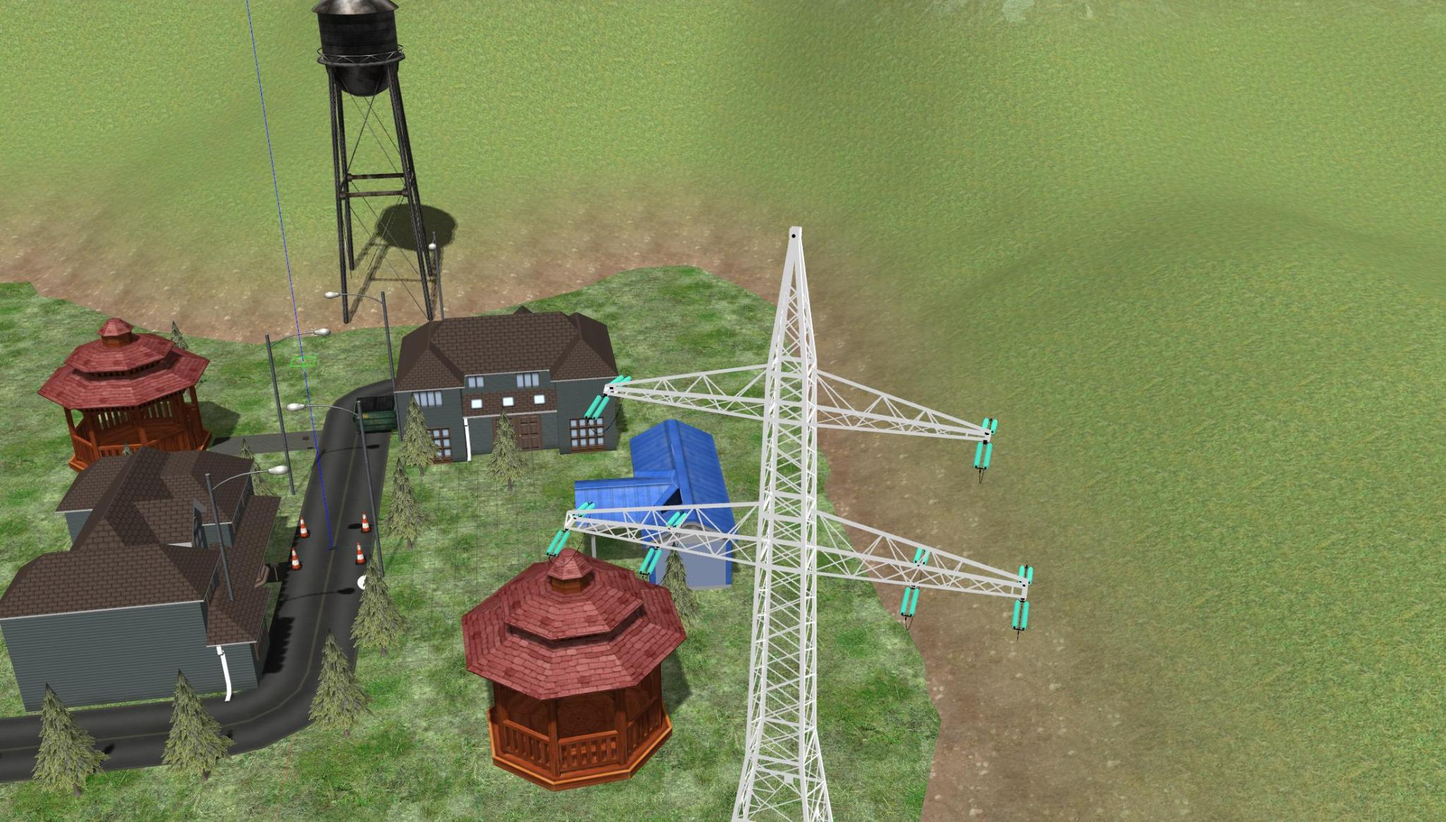tower: (563, 227, 1025, 822)
